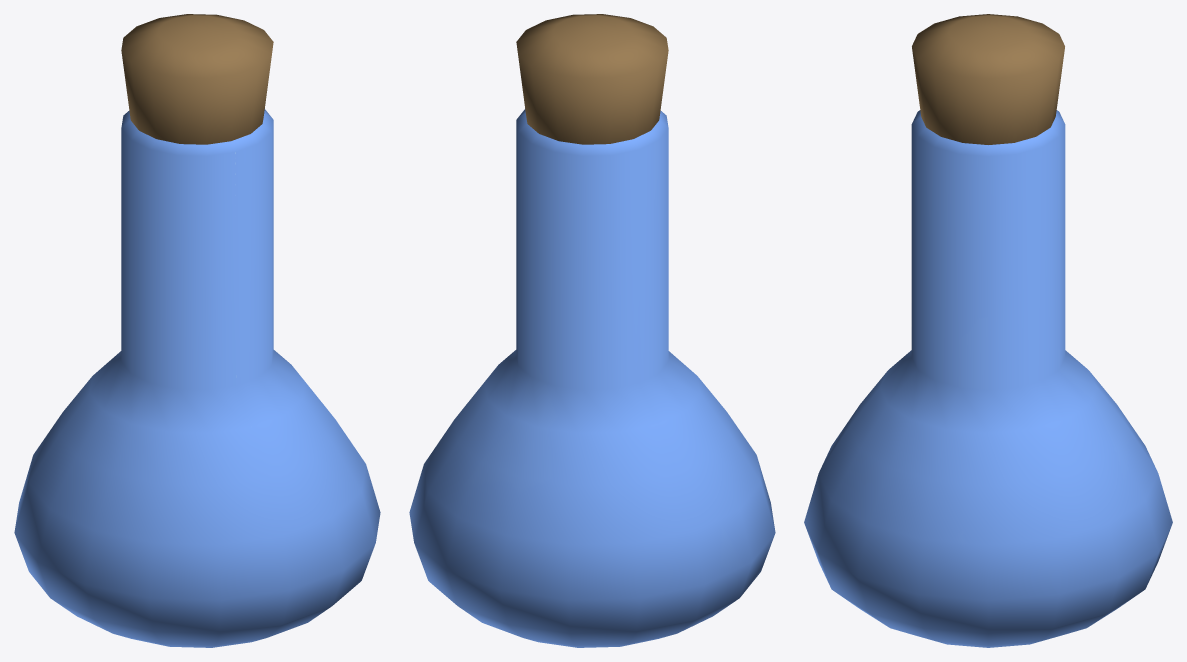
Rendered from HealthPotionTriangle.fbx.
3 views of the same model, side by side, from view 1: azimuth 30°, elevation 25°; view 2: azimuth 150°, elevation 25°; view 3: azimuth 270°, elevation 25° (orthographic).
Parts seen in each view (by area): view 1: Sphere.003; view 2: Sphere.003; view 3: Sphere.003.
Boxes of the visible parts, x1,y1,x2,y2 form: Sphere.003: [14, 14, 380, 647]; Sphere.003: [409, 14, 775, 647]; Sphere.003: [804, 14, 1172, 647].
Size of the model in its own units: 240 by 423 by 240.
